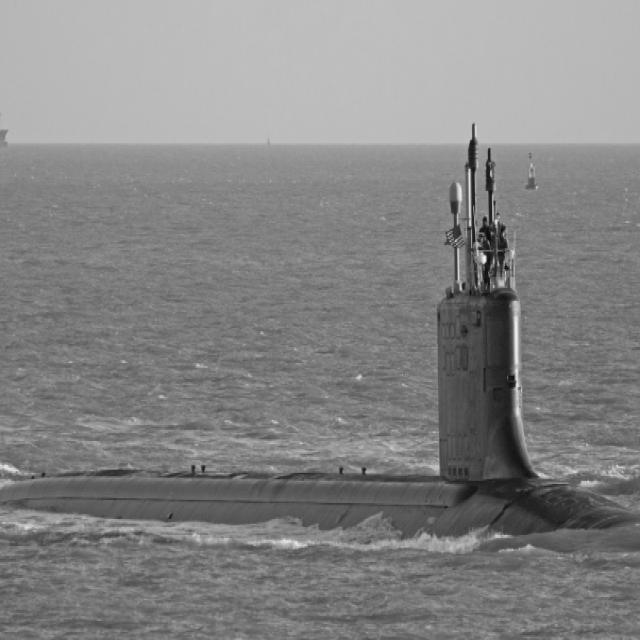submarine: (1, 291, 640, 547)
